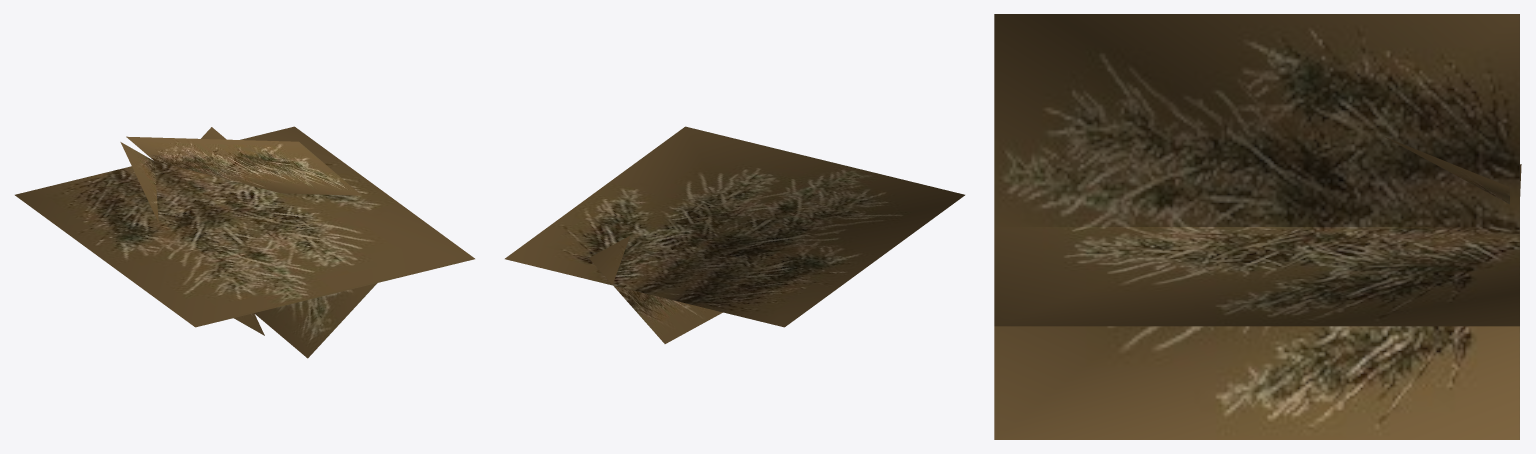
Rendered from brush_desertspikeyshrub.glb.
3 renders of one model, left to right at view 1: azimuth 30°, elevation 25°; view 2: azimuth 150°, elevation 25°; view 3: azimuth 270°, elevation 25°, orthographic. The views are drawn at different scales.
Bounding box in the file's own units: 14.42 × 14.42 × 16.18.
1 material, 1 textured.
